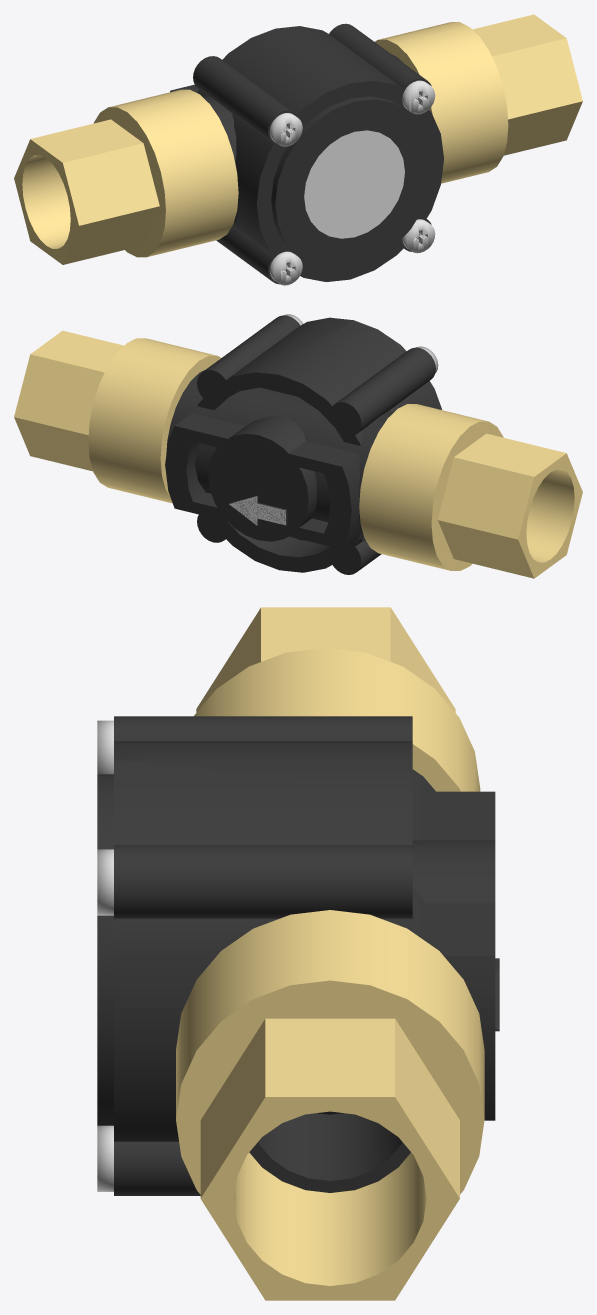
Rendered from Generator.dae.
3 renders of one model, top to bottom at view 1: azimuth 30°, elevation 25°; view 2: azimuth 150°, elevation 25°; view 3: azimuth 270°, elevation 25°, orthographic. The views are drawn at different scales.
Parts seen in each view (by area): view 1: group_0 (×5), Water_Meter, Water_Meter_3 (×5); view 2: group_0 (×5), Water_Meter, Water_Meter_3; view 3: group_0 (×5), Water_Meter, Water_Meter_3 (×4), washer_hose (×2).
Boxes of the visible parts, x1,y1,x2,y2 form: group_0 (×5): (14,14,582,264); Water_Meter: (170,23,443,284); Water_Meter_3 (×5): (269,80,435,285); group_0 (×5): (14,330,582,578); Water_Meter: (165,315,441,574); Water_Meter_3: (229,496,285,525); group_0 (×5): (176,607,484,1300); Water_Meter: (97,716,495,1195); Water_Meter_3 (×4): (97,720,396,1191); washer_hose (×2): (249,1136,410,1192).
Size of the model in its own units: 2.98 by 1.03 by 1.11.
